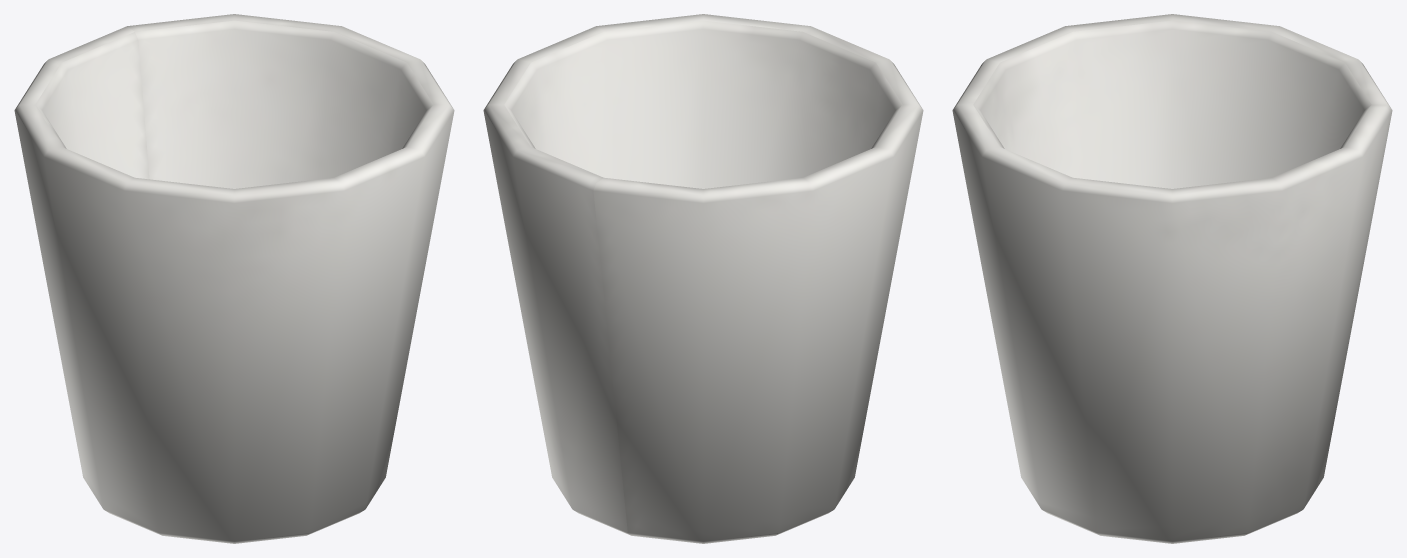
The model's file is uploads_files_3156658_Water_Cup.fbx.
The picture shows the model from 3 angles, left to right: view 1: azimuth 30°, elevation 25°; view 2: azimuth 150°, elevation 25°; view 3: azimuth 270°, elevation 25°; orthographic projection.
Parts seen in each view (by area): view 1: Water_Cup; view 2: Water_Cup; view 3: Water_Cup.
Boxes of the visible parts, x1,y1,x2,y2 form: Water_Cup: [14, 14, 454, 543]; Water_Cup: [483, 14, 923, 543]; Water_Cup: [952, 14, 1392, 543].
Size of the model in its own units: 6.34 by 6.01 by 6.34.
